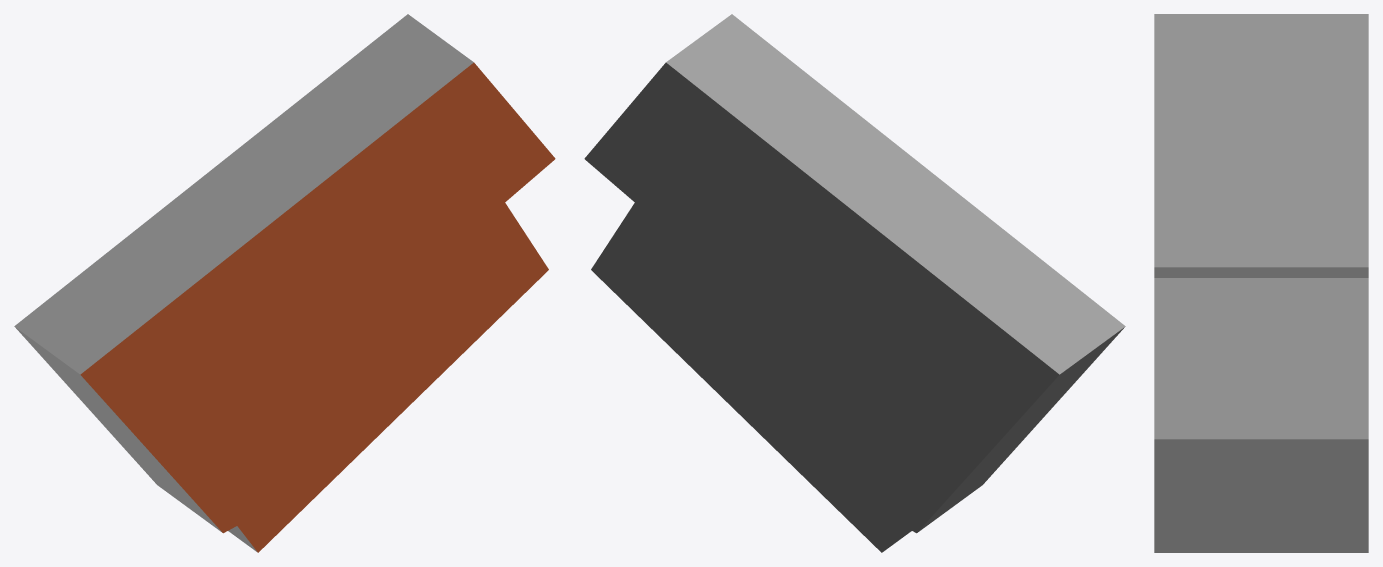
Rendered from construction_4677_assumed_A_Casa_h6m.obj.
3 renders of one model, left to right at view 1: azimuth 30°, elevation 25°; view 2: azimuth 150°, elevation 25°; view 3: azimuth 270°, elevation 25°, orthographic. The views are drawn at different scales.
Parts seen in each view (by area): view 1: construction_4677_assumed_A_Casa; view 2: construction_4677_assumed_A_Casa; view 3: construction_4677_assumed_A_Casa.
Part boxes in pixels (x1=…): construction_4677_assumed_A_Casa: x1=14, y1=14, x2=555, y2=552; construction_4677_assumed_A_Casa: x1=584, y1=14, x2=1125, y2=552; construction_4677_assumed_A_Casa: x1=1154, y1=14, x2=1368, y2=552.
Bounding box in the file's own units: 24.92 × 21.94 × 6.
